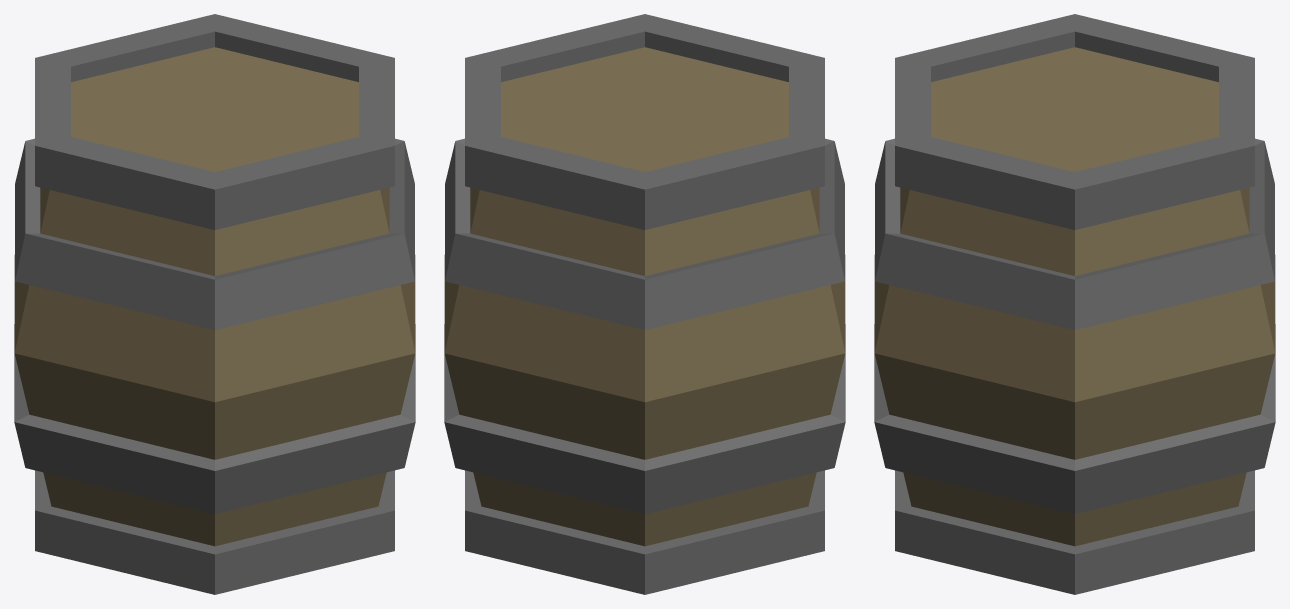
Rendered from barrel.fbx.
The picture shows the model from 3 angles, left to right: view 1: azimuth 30°, elevation 25°; view 2: azimuth 150°, elevation 25°; view 3: azimuth 270°, elevation 25°; orthographic projection.
Parts seen in each view (by area): view 1: barrel; view 2: barrel; view 3: barrel.
Boxes of the visible parts, x1,y1,x2,y2 form: barrel: [14, 14, 415, 594]; barrel: [444, 14, 845, 594]; barrel: [874, 14, 1275, 594].
Size of the model in its own units: 115 by 111 by 99.52.
